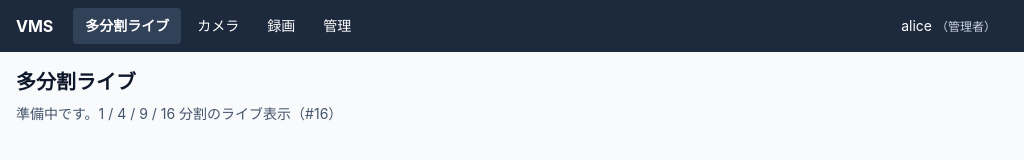
Test: layout › shows the admin menu to admins
This screenshot has width=1024, height=160.
Click the heading "管理": (337, 26) x1=323 y1=17 x2=351 y2=34
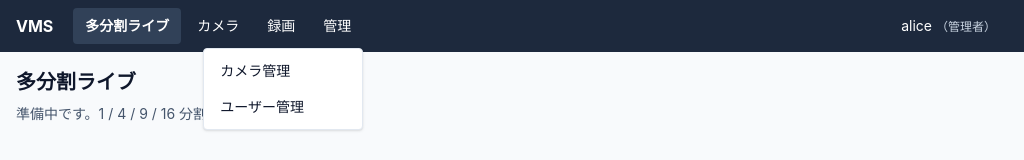
Click the link "ユーザー管理": (262, 106) x1=220 y1=98 x2=304 y2=115
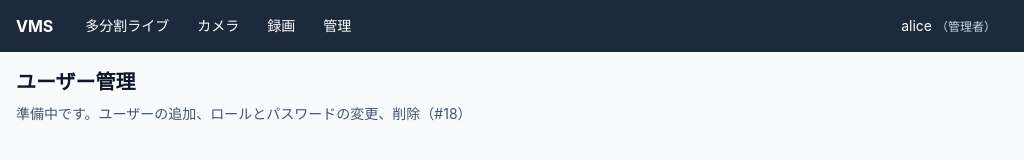
Result: the heading "ユーザー管理" is shown at x1=16 y1=70 x2=136 y2=94
